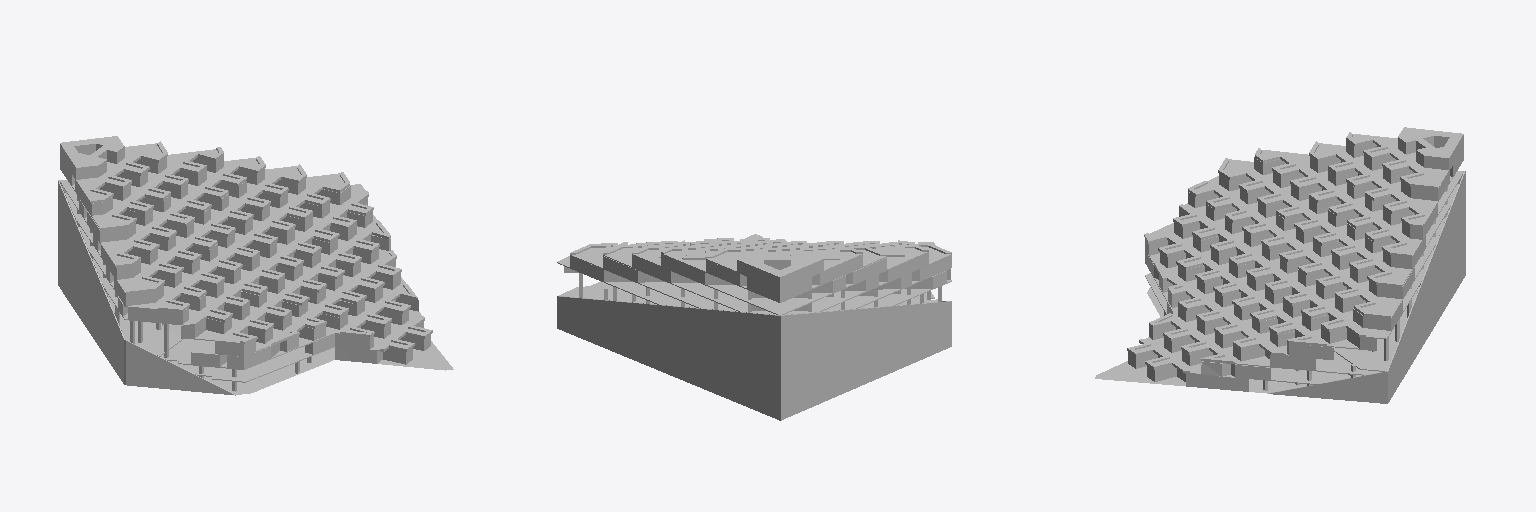
Rendered from MOUNTAINDWELLING_norm.obj.
The picture shows the model from 3 angles: view 1: azimuth 30°, elevation 25°; view 2: azimuth 150°, elevation 25°; view 3: azimuth 270°, elevation 25°; orthographic projection.
Size of the model in its own units: 1.45 by 0.6258 by 1.48.